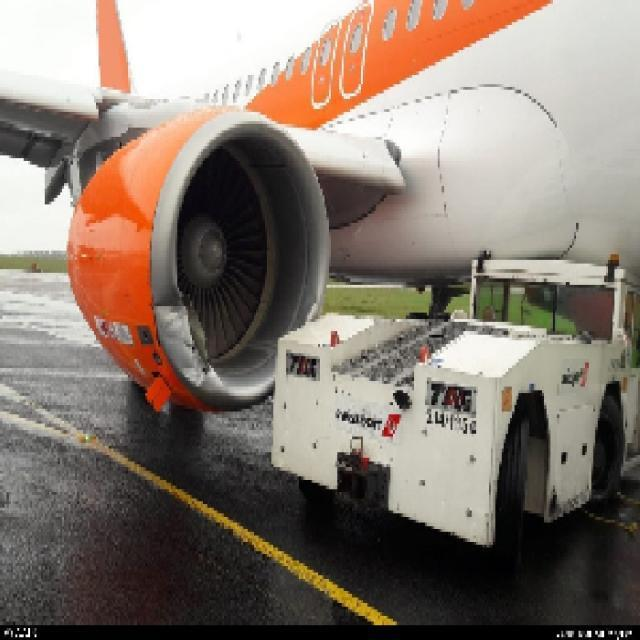crack: (178, 298, 212, 375)
dent: (302, 289, 328, 321)
